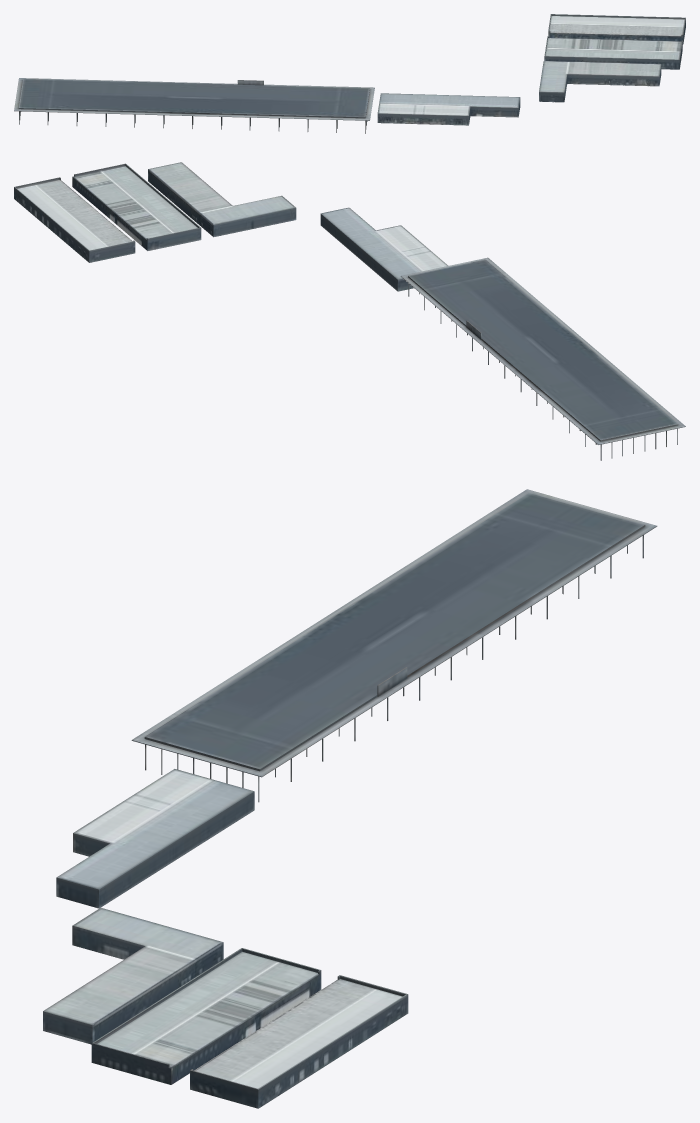
3 views of the same model, one above another, from view 1: azimuth 30°, elevation 25°; view 2: azimuth 150°, elevation 25°; view 3: azimuth 270°, elevation 25° (orthographic). The views are drawn at different scales.
Parts seen in each view (by area): view 1: Buildings_建物パビリオン; view 2: Buildings_建物パビリオン; view 3: Buildings_建物パビリオン.
Part boxes in pixels (bbox=[...]): Buildings_建物パビリオン: bbox=[14, 14, 685, 133]; Buildings_建物パビリオン: bbox=[14, 162, 685, 460]; Buildings_建物パビリオン: bbox=[43, 489, 657, 1108].
Size of the model in its own units: 286 by 9.51 by 126.
6 materials, 5 textured.
